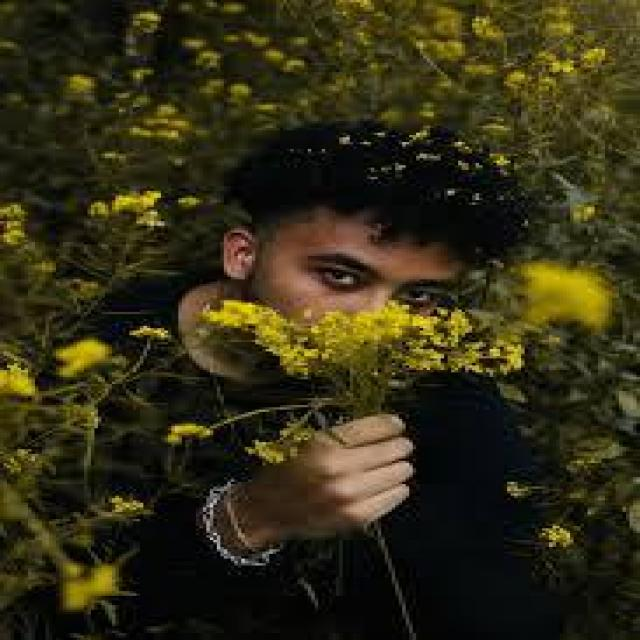organic waste: (224, 307, 528, 377)
